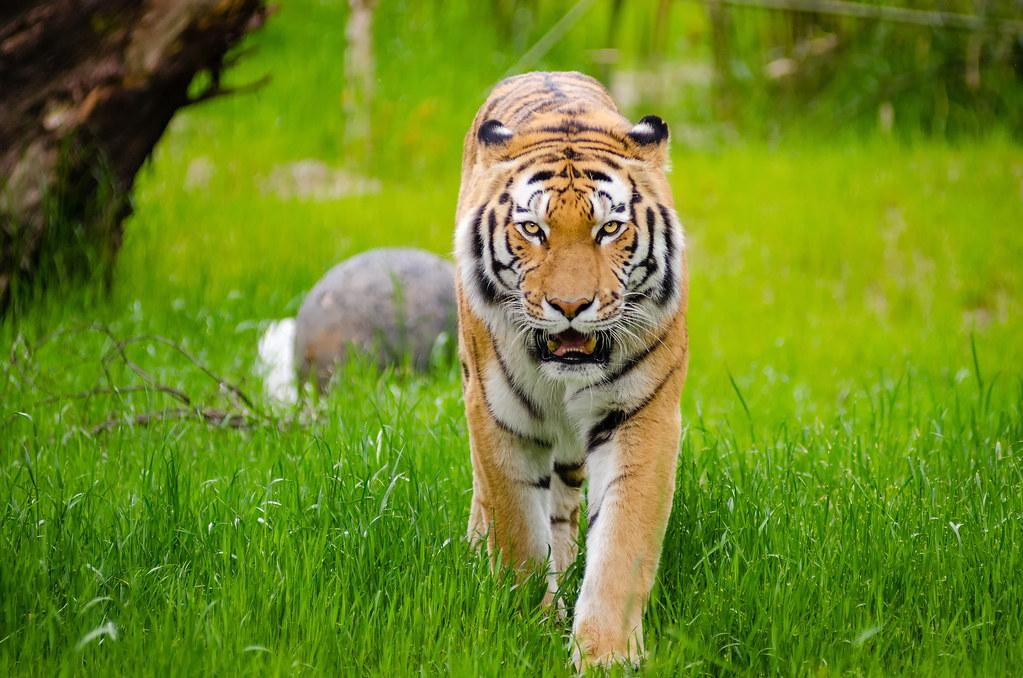tiger: (451, 69, 692, 675)
